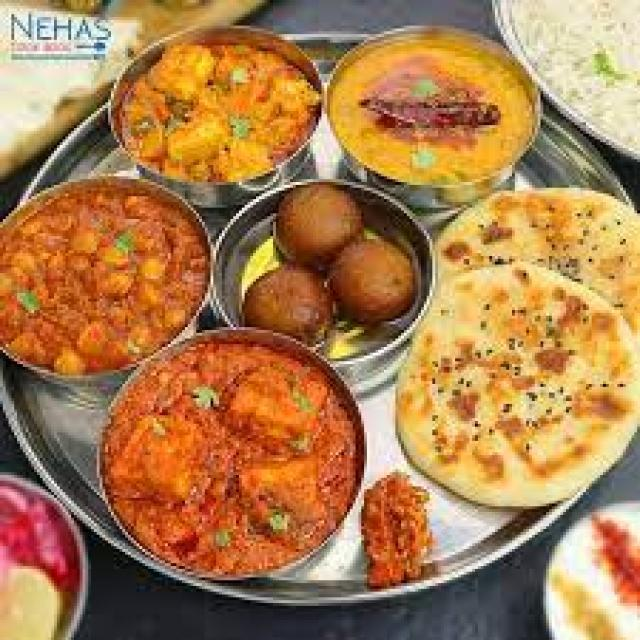papad: (407, 199, 635, 475)
roti: (101, 341, 351, 581)
sweet: (542, 498, 637, 637), (333, 231, 428, 326)
veg-fry: (307, 22, 561, 203), (1, 171, 206, 391), (106, 25, 327, 191)
